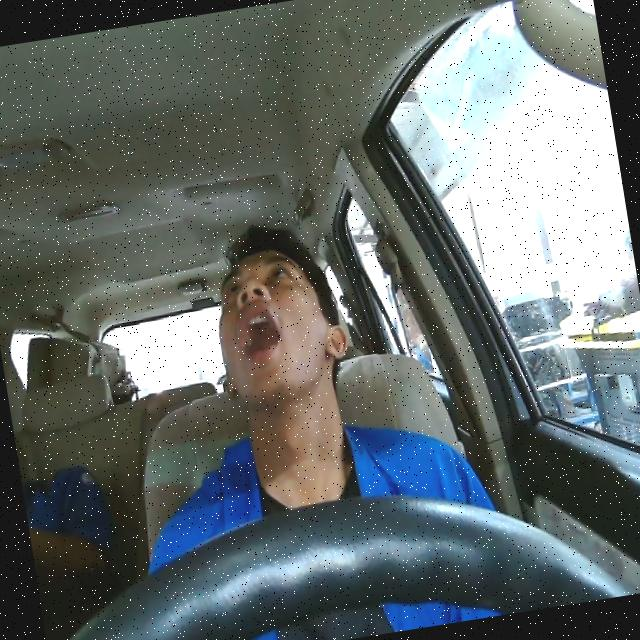yarning: (206, 240, 355, 415)
